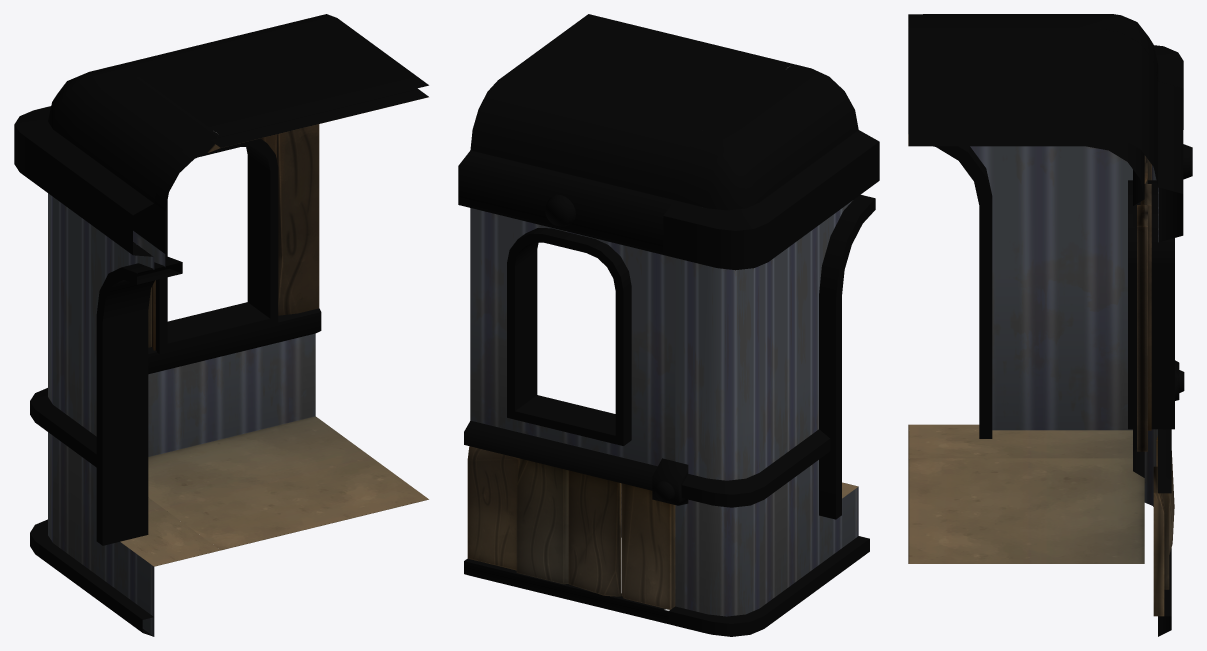
Rendered from SM_ARRIERE_G_PORTE_Train_FINAL.fbx.
The picture shows the model from 3 angles, left to right: view 1: azimuth 30°, elevation 25°; view 2: azimuth 150°, elevation 25°; view 3: azimuth 270°, elevation 25°; orthographic projection. The views are drawn at different scales.
Parts seen in each view (by area): view 1: Arriere_Porte_Train_Low_Gauche_FINALE; view 2: Arriere_Porte_Train_Low_Gauche_FINALE; view 3: Arriere_Porte_Train_Low_Gauche_FINALE.
Part boxes in pixels (x1=…): Arriere_Porte_Train_Low_Gauche_FINALE: x1=14, y1=14, x2=428, y2=636; Arriere_Porte_Train_Low_Gauche_FINALE: x1=458, y1=14, x2=879, y2=636; Arriere_Porte_Train_Low_Gauche_FINALE: x1=908, y1=14, x2=1192, y2=636.
Size of the model in its own units: 2.85 by 4.44 by 2.28.
